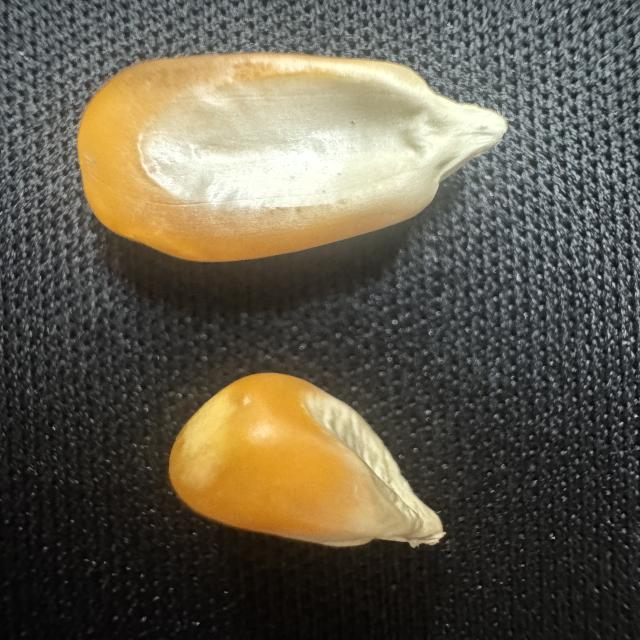Bad-Seed: (134, 358, 463, 580)
Good-Seed: (62, 40, 510, 284)
